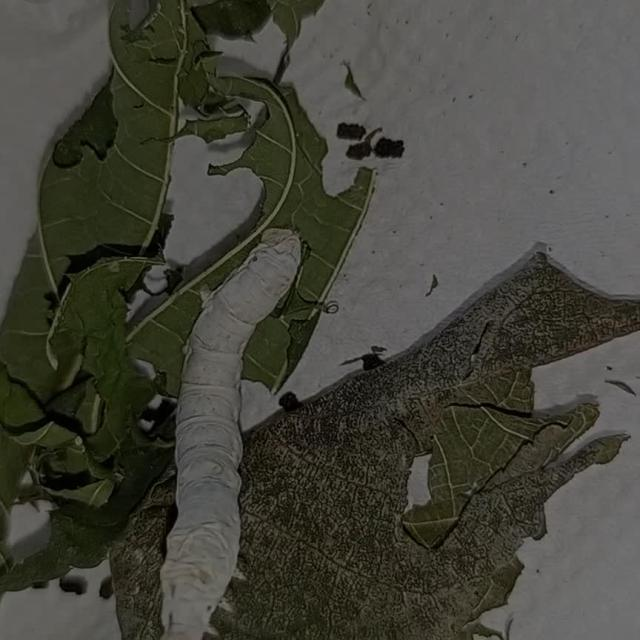Healthy: (117, 197, 336, 640)
